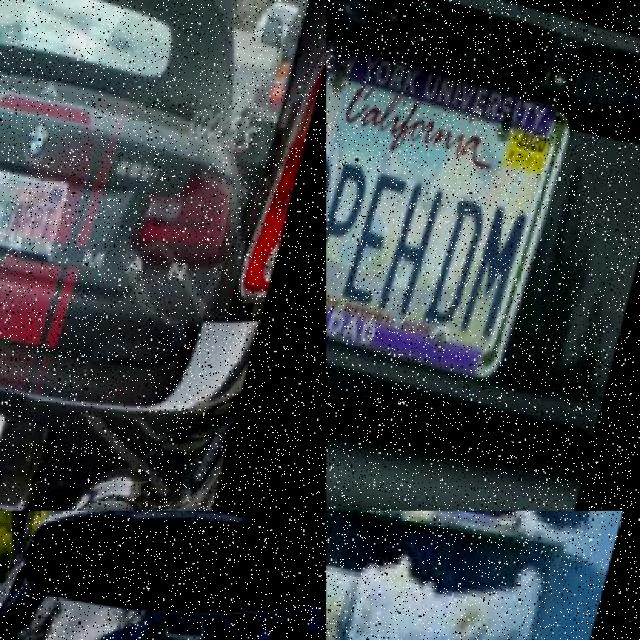licenseplate: (326, 17, 582, 377), (326, 511, 631, 615), (0, 155, 72, 252)
